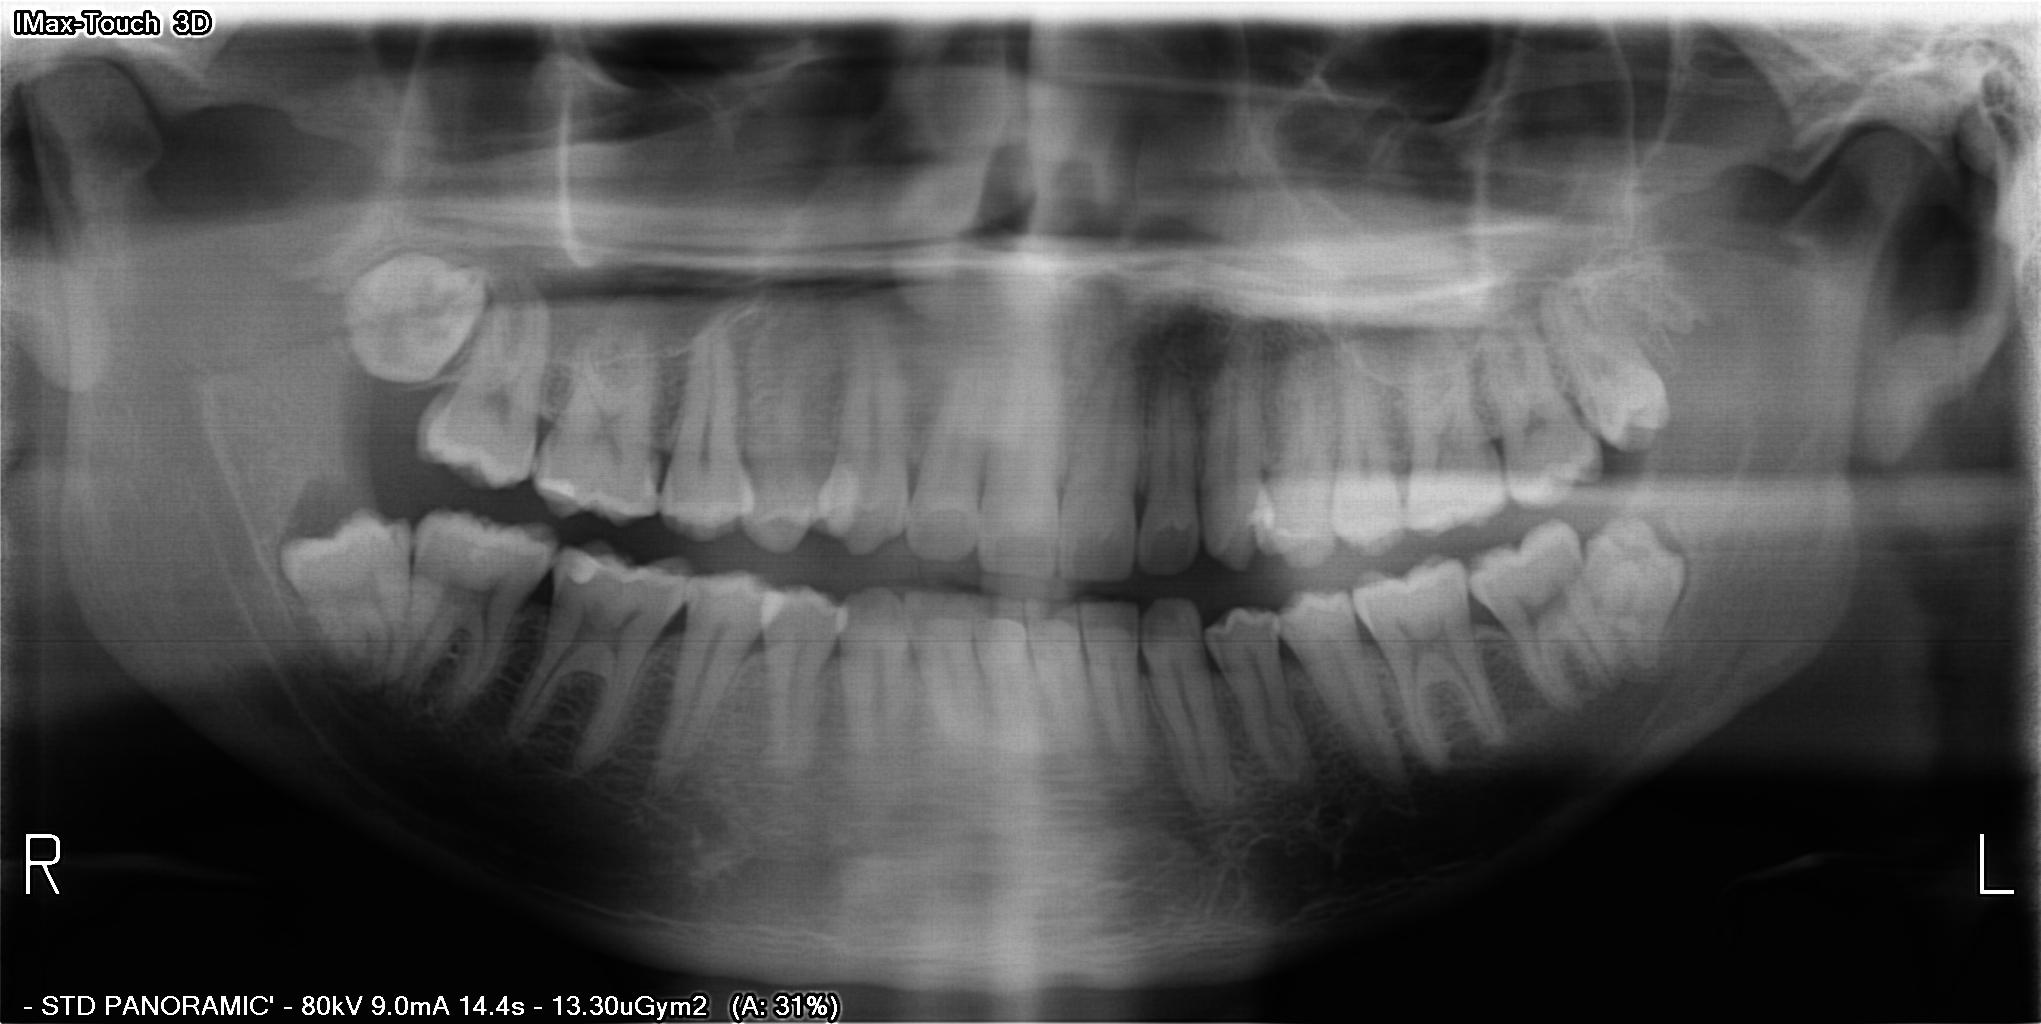Çürük: (558, 539, 595, 600)
